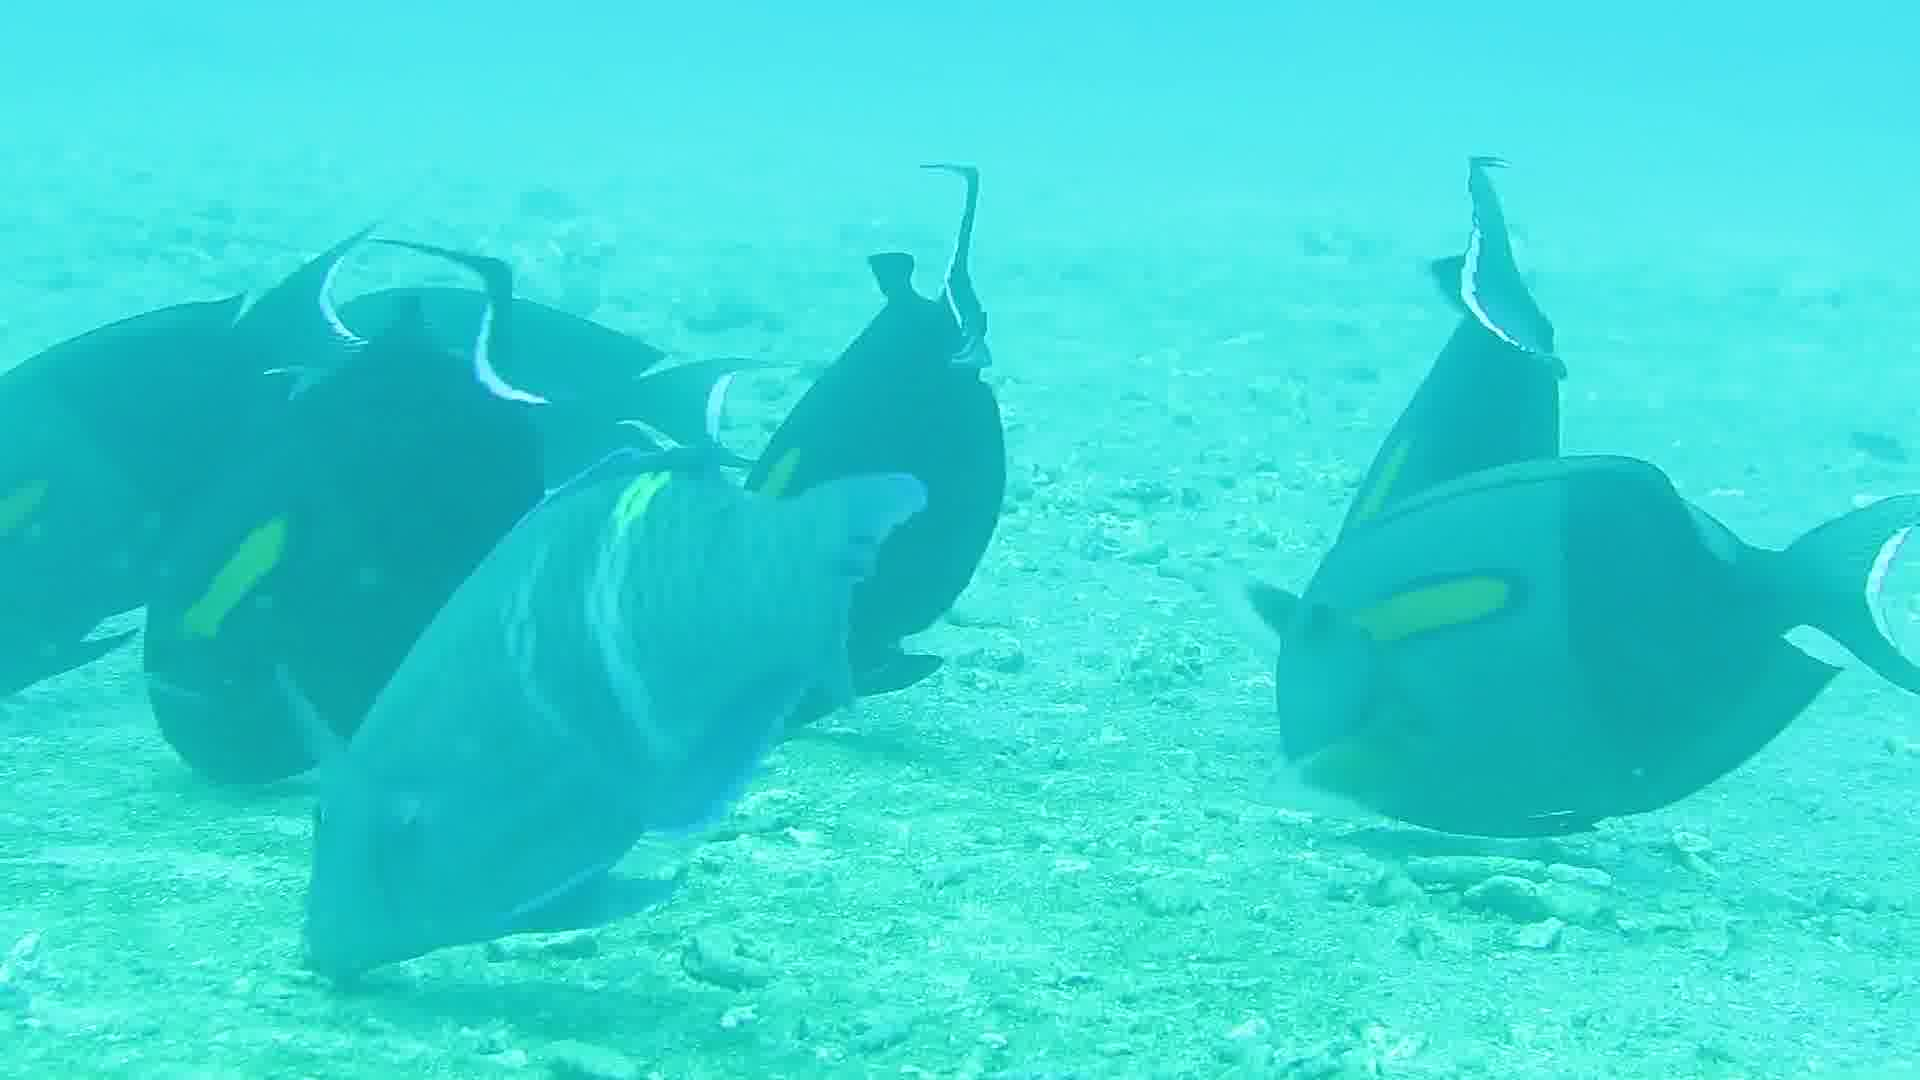Acanthurus olivaceus: (298, 463, 943, 953), (1275, 444, 1920, 872), (1, 135, 382, 658), (752, 153, 1027, 748)
